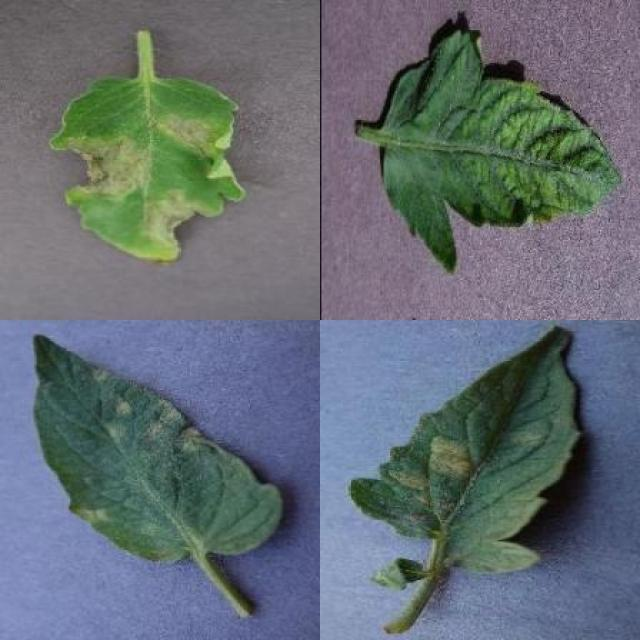Late Blight: (49, 75, 245, 265)
Leaf Mold: (31, 332, 285, 565), (351, 325, 583, 575)
Mosaic Virus: (380, 28, 626, 278)
